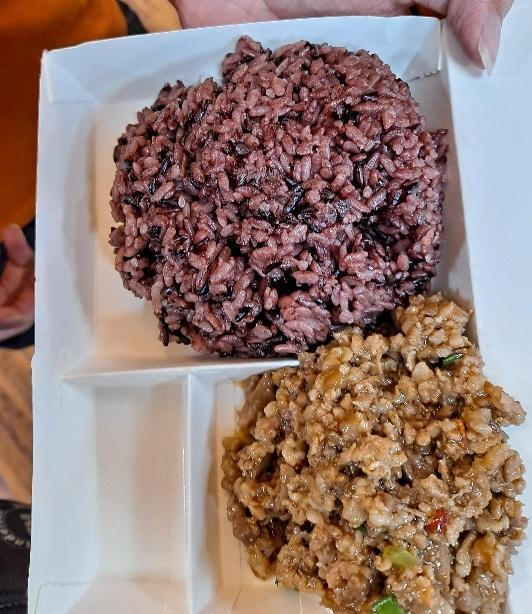big grilled chicken leg: (19, 16, 528, 614)
braised fish: (93, 31, 450, 351)
braised pork: (219, 290, 519, 614)
